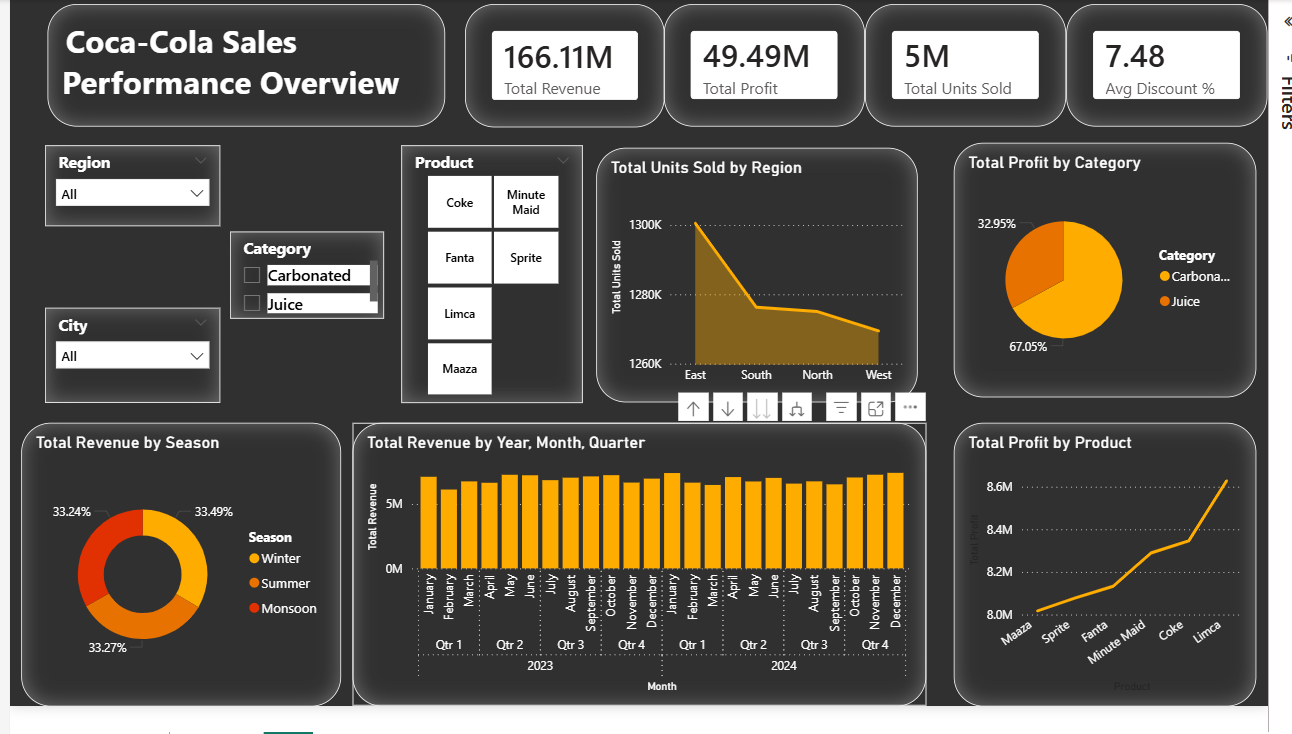

What the dashboard file says about the page in this screenshot:
{"tool":"powerbi","page":{"name":"Page 1","canvas":[1280,720],"ordinal":0},"visuals":[{"type":"cardVisual","fields":{"Data":["coca_cola_sales.Total Revenue"]},"box":[463.1,5.1,203.6,126],"z":0},{"type":"cardVisual","fields":{"Data":["coca_cola_sales.Total Profit"]},"box":[665.4,5.1,204.9,124.7],"z":1},{"type":"cardVisual","fields":{"Data":["coca_cola_sales.Total Units Sold"]},"box":[870.3,5.1,204.9,124.7],"z":2},{"type":"areaChart","fields":{"Category":["coca_cola_sales.Region"],"Y":["coca_cola_sales.Total Units Sold"]},"box":[596.7,151.4,327,259.6],"z":5},{"type":"lineChart","fields":{"Category":["coca_cola_sales.Product"],"Y":["coca_cola_sales.Total Profit"]},"box":[960.6,431.3,307.9,288.8],"z":6},{"type":"pieChart","fields":{"Category":["coca_cola_sales.Category"],"Y":["coca_cola_sales.Total Profit"]},"box":[960.6,146.3,307.9,259.6],"z":8},{"type":"donutChart","fields":{"Y":["coca_cola_sales.Total Revenue"],"Category":["coca_cola_sales.Season"]},"box":[11.5,431.3,325.7,288.8],"z":9},{"type":"lineStackedColumnComboChart","title":"Total Revenue by Year, Month, Quarter","fields":{"Y":["coca_cola_sales.Total Revenue"],"Category":["coca_cola_sales.Date.Variation.Date Hierarchy.Year","coca_cola_sales.Date.Variation.Date Hierarchy.Quarter","coca_cola_sales.Date.Variation.Date Hierarchy.Month","coca_cola_sales.Date.Variation.Date Hierarchy.Day"]},"box":[348.6,431.3,584,288.8],"z":10},{"type":"cardVisual","fields":{"Data":["coca_cola_sales.Avg Discount %"]},"box":[1075.1,5.1,204.9,124.7],"z":11},{"type":"slicer","fields":{"Values":["coca_cola_sales.Category"]},"box":[223.9,236.7,156.5,89.1],"z":12},{"type":"slicer","fields":{"Values":["coca_cola_sales.City"]},"box":[35.6,314.3,178.1,96.7],"z":13},{"type":"slicer","fields":{"Values":["coca_cola_sales.Product"]},"box":[398.3,148.9,184.5,262.1],"z":14},{"type":"slicer","fields":{"Values":["coca_cola_sales.Region"]},"box":[35.6,148.9,178.1,82.7],"z":15},{"type":"textbox","box":[38.2,5.1,404.6,124.7],"z":16}]}

Visuals, with their boxes in screenshot pixels (x1, y1, x2, y2):
cardVisual - coca_cola_sales.Total Revenue: x1=461 y1=0 x2=664 y2=117
cardVisual - coca_cola_sales.Total Profit: x1=662 y1=0 x2=866 y2=116
cardVisual - coca_cola_sales.Total Units Sold: x1=866 y1=0 x2=1070 y2=116
areaChart - coca_cola_sales.Region x coca_cola_sales.Total Units Sold: x1=594 y1=137 x2=919 y2=396
lineChart - coca_cola_sales.Product x coca_cola_sales.Total Profit: x1=956 y1=416 x2=1263 y2=703
pieChart - coca_cola_sales.Category x coca_cola_sales.Total Profit: x1=956 y1=132 x2=1263 y2=391
donutChart - coca_cola_sales.Total Revenue x coca_cola_sales.Season: x1=11 y1=416 x2=336 y2=703
"Total Revenue by Year, Month, Quarter" lineStackedColumnComboChart: x1=347 y1=416 x2=928 y2=703
cardVisual - coca_cola_sales.Avg Discount %: x1=1070 y1=0 x2=1274 y2=116
slicer - coca_cola_sales.Category: x1=223 y1=222 x2=379 y2=311
slicer - coca_cola_sales.City: x1=35 y1=299 x2=213 y2=396
slicer - coca_cola_sales.Product: x1=396 y1=135 x2=580 y2=396
slicer - coca_cola_sales.Region: x1=35 y1=135 x2=213 y2=217
textbox: x1=38 y1=0 x2=441 y2=116
